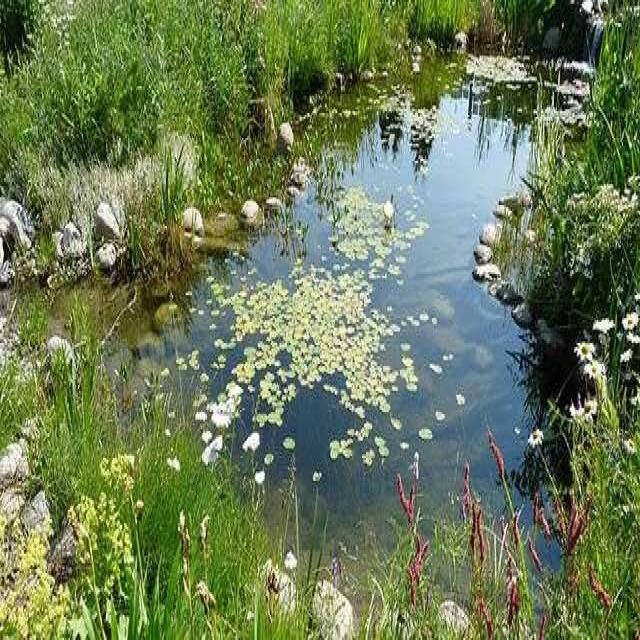Ponds: (1, 1, 619, 640)
